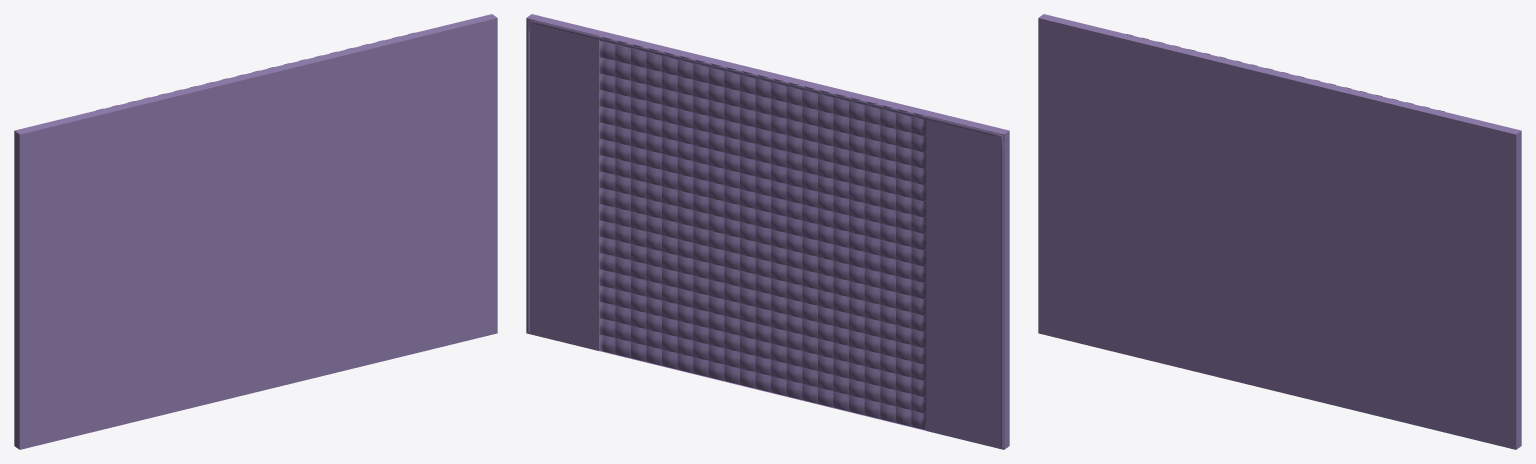
Rendered from bb_set_diarywall.fbx.
3 views of the same model, side by side, from view 1: azimuth 30°, elevation 25°; view 2: azimuth 150°, elevation 25°; view 3: azimuth 330°, elevation 25° (orthographic).
Parts seen in each view (by area): view 1: bb_set_diarywall; view 2: bb_set_diarywall; view 3: bb_set_diarywall.
Boxes of the visible parts, x1=… form: bb_set_diarywall: x1=14, y1=14, x2=497, y2=449; bb_set_diarywall: x1=526, y1=14, x2=1009, y2=449; bb_set_diarywall: x1=1038, y1=14, x2=1521, y2=449.
Size of the model in its own units: 4.6 by 2.9 by 0.1.
